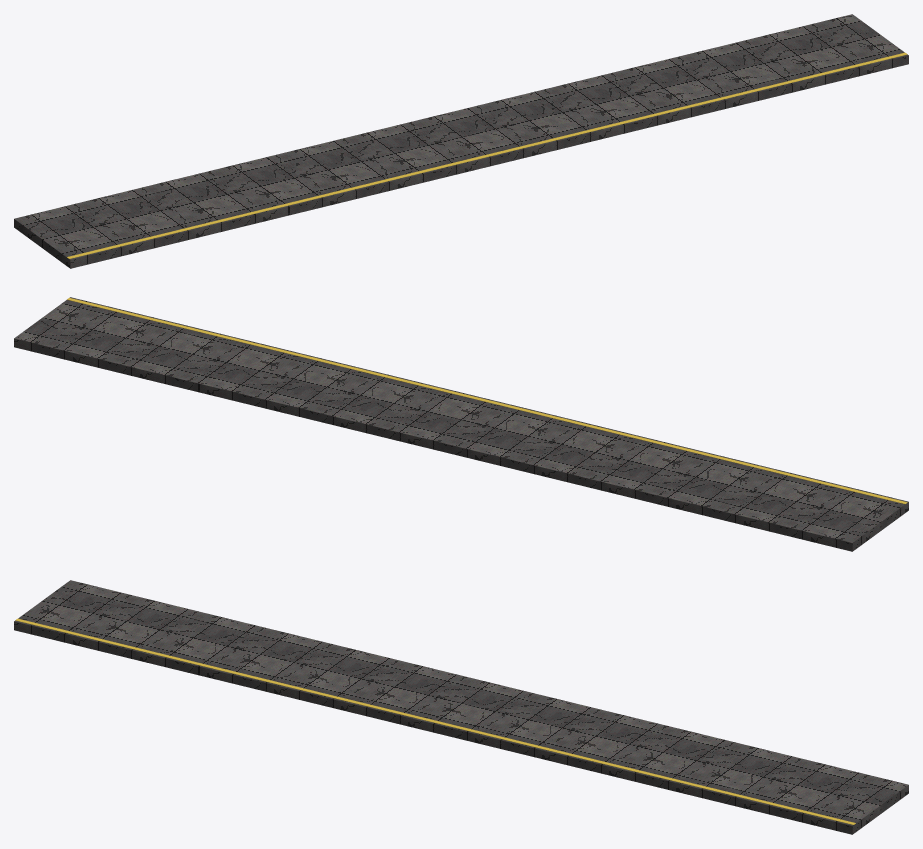
Rendered from anden.obj.
3 views of the same model, one above another, from view 1: azimuth 30°, elevation 25°; view 2: azimuth 150°, elevation 25°; view 3: azimuth 330°, elevation 25° (orthographic).
Parts seen in each view (by area): view 1: anden; view 2: anden; view 3: anden.
Boxes of the visible parts, x1,y1,x2,y2 form: anden: (14,14,908,268); anden: (14,297,908,551); anden: (14,580,908,834).
Bounding box in the file's own units: 30 × 0.31 × 3.5.
2 materials, 2 textured.
